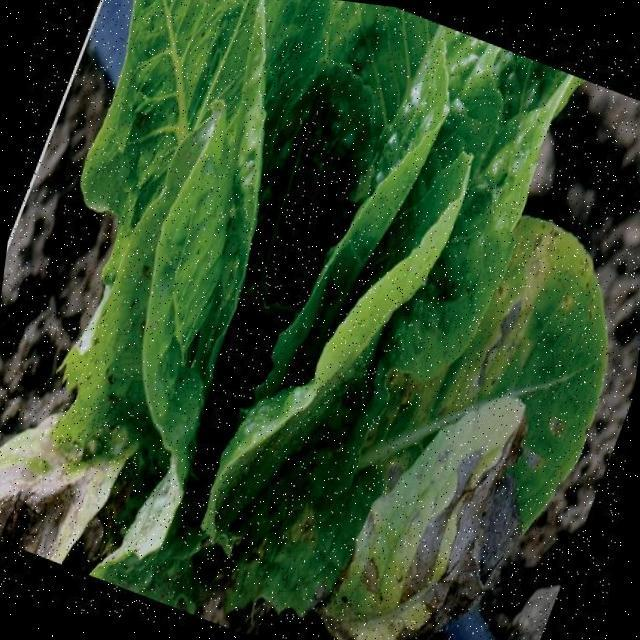Downy_Mildew: (286, 174, 638, 640)
